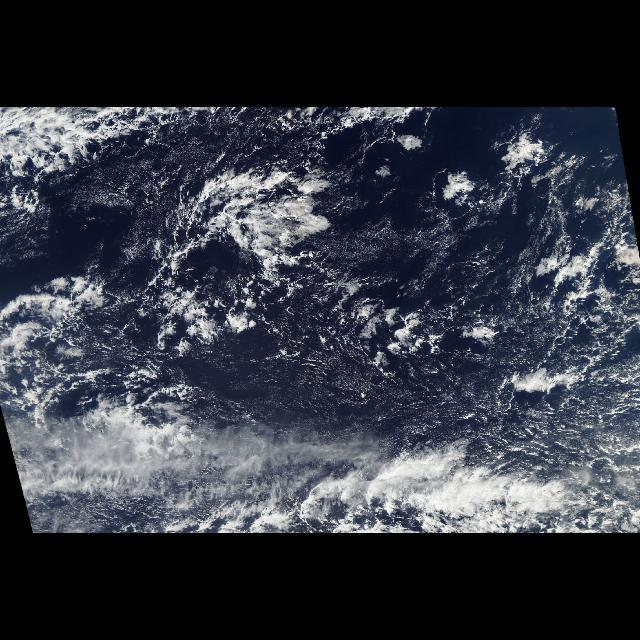Fish: (120, 133, 354, 374)
Gravel: (426, 170, 634, 444)
Sugar: (187, 348, 499, 446), (321, 178, 543, 296)
